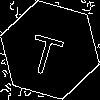T: (25, 25, 68, 77)
